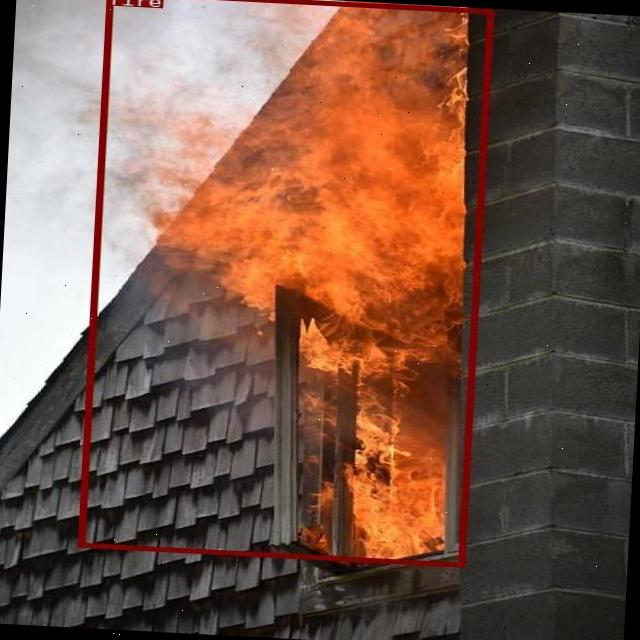fire: (76, 0, 492, 566)
